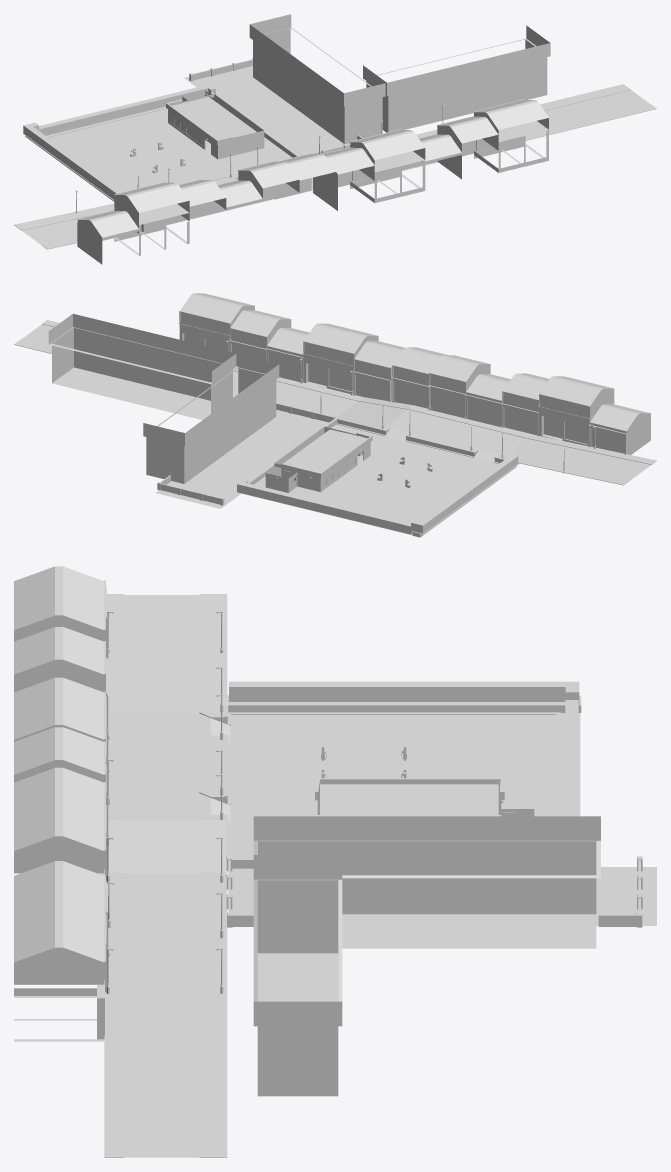
Rendered from GarageFull.fbx.
The picture shows the model from 3 angles, top to bottom: view 1: azimuth 30°, elevation 25°; view 2: azimuth 150°, elevation 25°; view 3: azimuth 270°, elevation 25°; orthographic projection. The views are drawn at different scales.
Parts seen in each view (by area): view 1: Floor, Housing.001, Housing, Building, Cafe.001, Cafe.002, Cafe, Hedge, ShortShop.001, Road.009, Shop1.001, Road.004 (+10 smaller); view 2: Floor, Housing.001, Housing, Building, Cafe, Cafe.001, Road.009, Cafe.002, ShortShop.001, ShutteredTallSHop, Shop1.001, Shop1.003 (+15 smaller); view 3: Housing, Floor, Road.004, Housing.001, Road.009, Cafe.002, Hedge.001, Road, Building, Cafe.001, Road.006, Cafe (+19 smaller).
Part boxes in pixels (x1,y1,x2,y2): Floor: [49, 66, 350, 191]; Housing.001: [363, 25, 550, 132]; Housing: [249, 14, 385, 144]; Building: [166, 90, 264, 159]; Cafe.001: [349, 129, 425, 202]; Cafe.002: [473, 99, 548, 172]; Cafe: [114, 182, 189, 255]; Hedge: [38, 84, 215, 136]; ShortShop.001: [77, 210, 138, 264]; Road.009: [311, 97, 656, 190]; Shop1.001: [313, 147, 374, 210]; Road.004: [416, 84, 640, 137]; Floor: [155, 409, 498, 522]; Housing.001: [48, 313, 236, 419]; Housing: [143, 354, 279, 483]; Building: [265, 426, 372, 492]; Cafe: [538, 376, 614, 446]; Cafe.001: [302, 323, 378, 393]; Road.009: [32, 320, 458, 428]; Cafe.002: [178, 293, 254, 351]; ShortShop.001: [588, 404, 650, 454]; ShutteredTallSHop: [428, 355, 490, 418]; Shop1.001: [352, 341, 405, 401]; Shop1.003: [391, 347, 448, 408]; Housing: [253, 816, 600, 948]; Floor: [230, 714, 656, 925]; Road.004: [161, 820, 227, 1157]; Housing.001: [253, 855, 342, 1096]; Road.009: [104, 778, 161, 1157]; Cafe.002: [14, 902, 108, 1041]; Hedge.001: [228, 681, 580, 706]; Road: [161, 594, 227, 713]; Building: [315, 778, 534, 816]; Cafe.001: [14, 791, 108, 875]; Road.006: [106, 594, 161, 713]; Cafe: [14, 570, 108, 652].
Size of the model in its own units: 15800 by 1483 by 7836.
46 materials, 3 textured.
